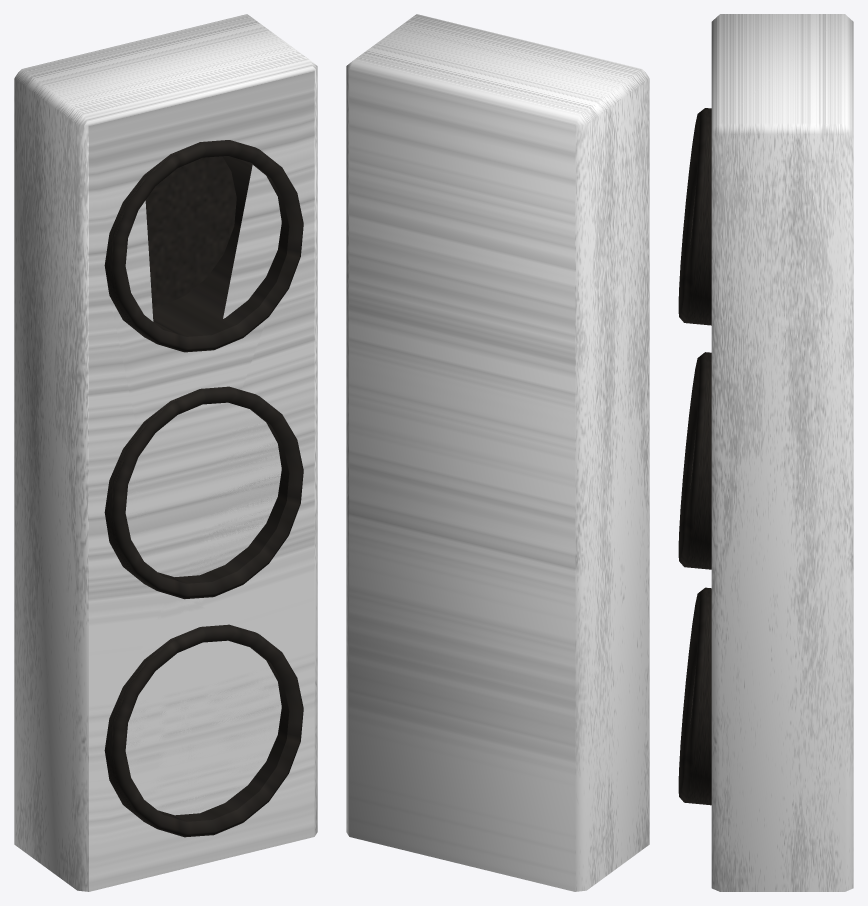
Rendered from CupHolder.fbx.
3 views of the same model, side by side, from view 1: azimuth 30°, elevation 25°; view 2: azimuth 150°, elevation 25°; view 3: azimuth 270°, elevation 25° (orthographic).
Visible parts, largest first — view 1: LOD0; view 2: LOD0; view 3: LOD0.
Part boxes in pixels (left/top/right/bottom): LOD0: left=14, top=14, right=317, bottom=891; LOD0: left=346, top=14, right=649, bottom=891; LOD0: left=678, top=14, right=853, bottom=891.
Size of what is drawn, in the model's own units: 15.51 by 47.69 by 9.88.
